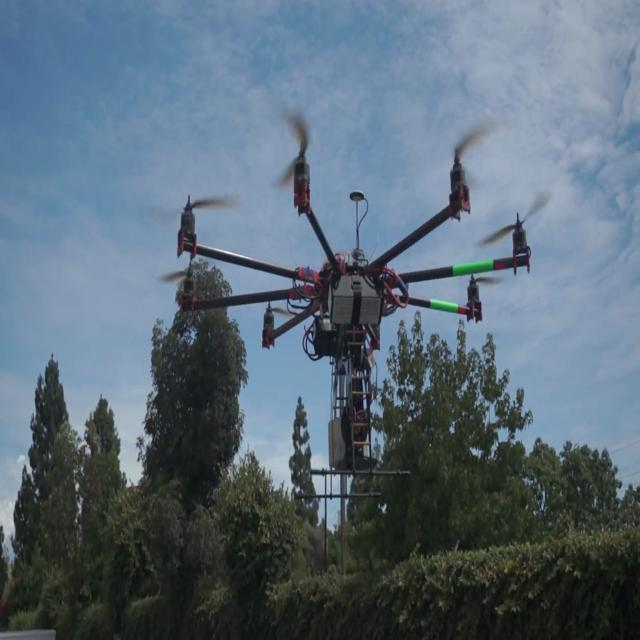drone: (159, 132, 530, 483)
